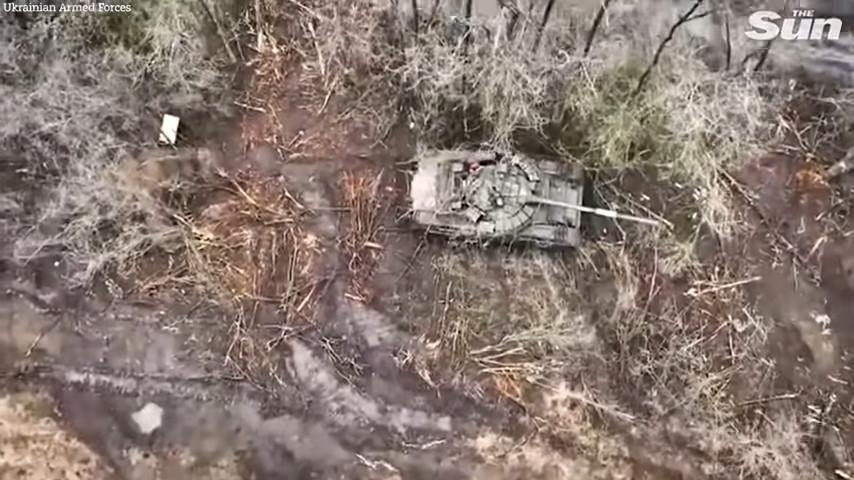tank: (409, 149, 660, 248)
